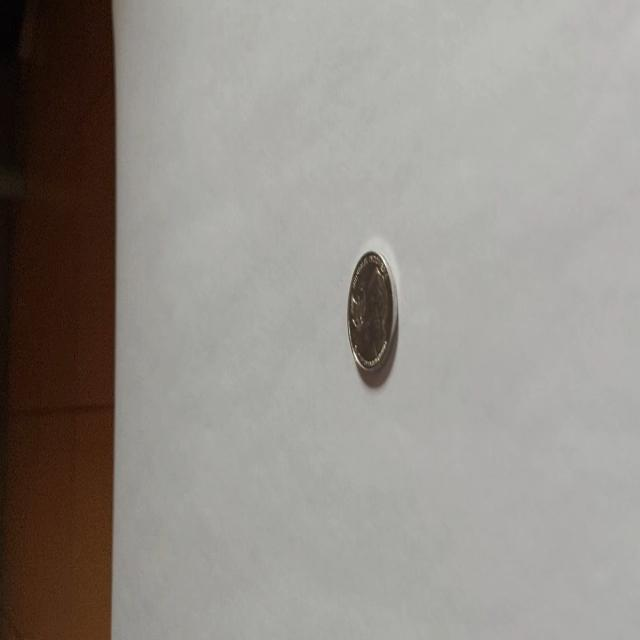dua ratus rupiah: (346, 248, 398, 374)
